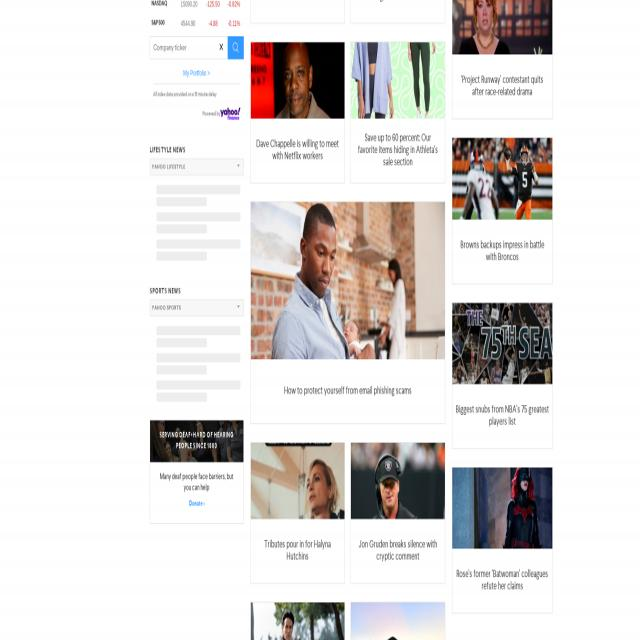button: (251, 202, 445, 360), (452, 138, 552, 219), (452, 303, 552, 384), (452, 468, 552, 548), (351, 42, 445, 118), (351, 443, 445, 519), (251, 42, 344, 118), (251, 443, 344, 519), (452, 0, 552, 54), (150, 421, 243, 462), (220, 108, 240, 120), (233, 42, 239, 52)
field: (150, 36, 243, 59), (150, 158, 243, 176), (150, 300, 243, 316)
